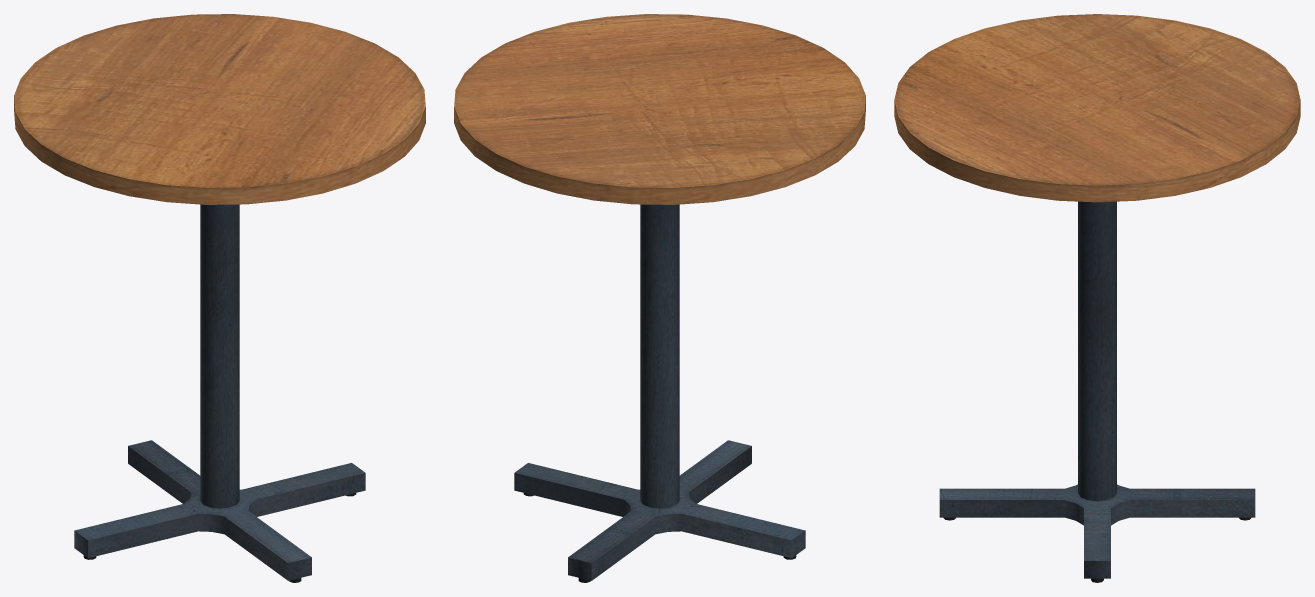
Rendered from table.glb.
The picture shows the model from 3 angles, left to right: view 1: azimuth 30°, elevation 25°; view 2: azimuth 150°, elevation 25°; view 3: azimuth 270°, elevation 25°; orthographic projection.
Visible parts, largest first — view 1: LPTable; view 2: LPTable; view 3: LPTable.
Part boxes in pixels (box(x1,y1,x2,y2)): LPTable: box(14, 14, 425, 582); LPTable: box(454, 14, 865, 582); LPTable: box(894, 14, 1300, 582).
Size of the model in its own units: 44 by 49.95 by 44.
Materials: 1 (1 with a texture image).
